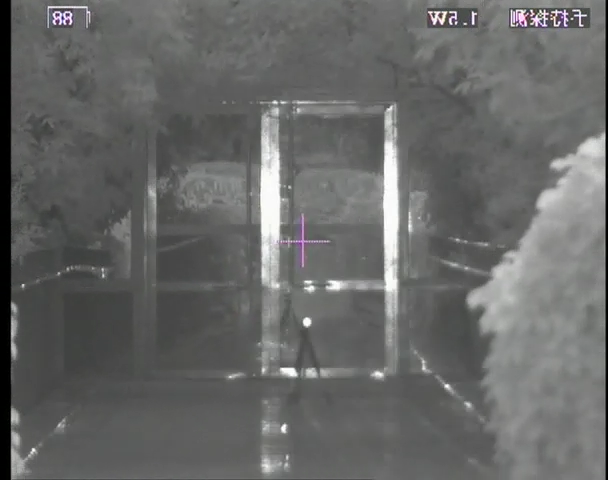my: (301, 316, 312, 329)
